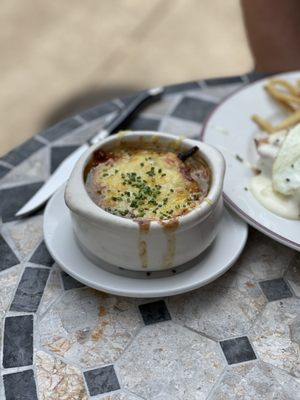sushi: (64, 131, 226, 272)
